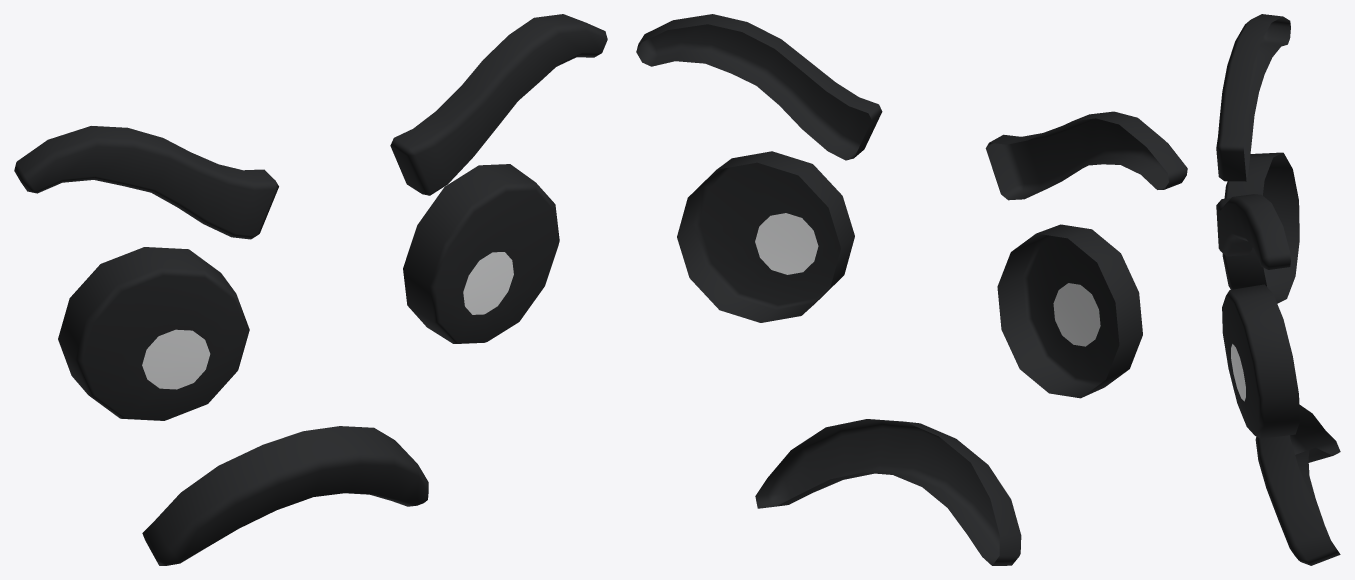
File: Male_Emotion_Angry_01.glb
3 views of the same model, side by side, from view 1: azimuth 30°, elevation 25°; view 2: azimuth 150°, elevation 25°; view 3: azimuth 270°, elevation 25° (orthographic). The views are drawn at different scales.
Visible parts, largest first — view 1: Male_Emotion_Angry_01; view 2: Male_Emotion_Angry_01; view 3: Male_Emotion_Angry_01.
Boxes of the visible parts, x1,y1,x2,y2 form: Male_Emotion_Angry_01: [14, 14, 607, 565]; Male_Emotion_Angry_01: [636, 14, 1187, 565]; Male_Emotion_Angry_01: [1216, 14, 1340, 565].
Bounding box in the file's own units: 0.2273 × 0.1779 × 0.0501.
Materials: 1 (1 with a texture image).
